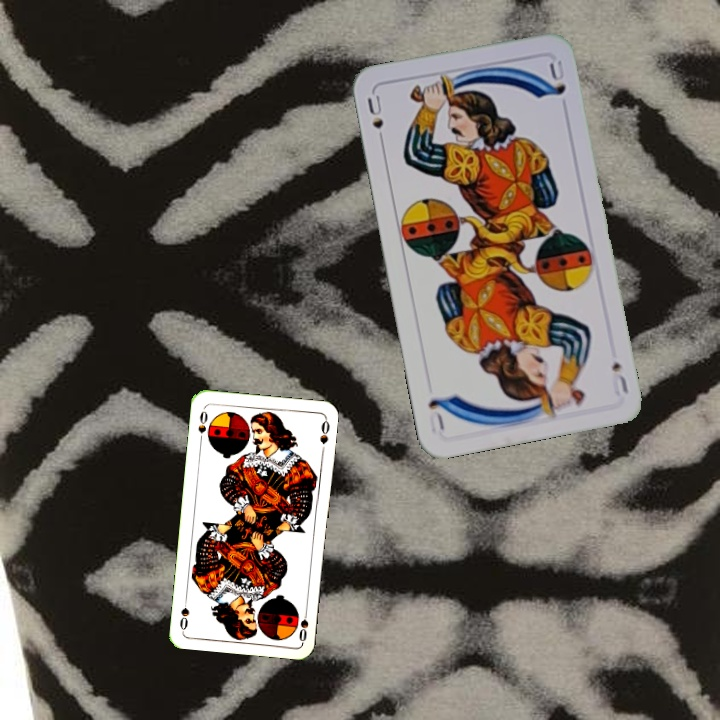SO: (295, 603, 311, 644), (194, 407, 210, 445)
SU: (363, 91, 387, 149), (607, 357, 631, 398)
